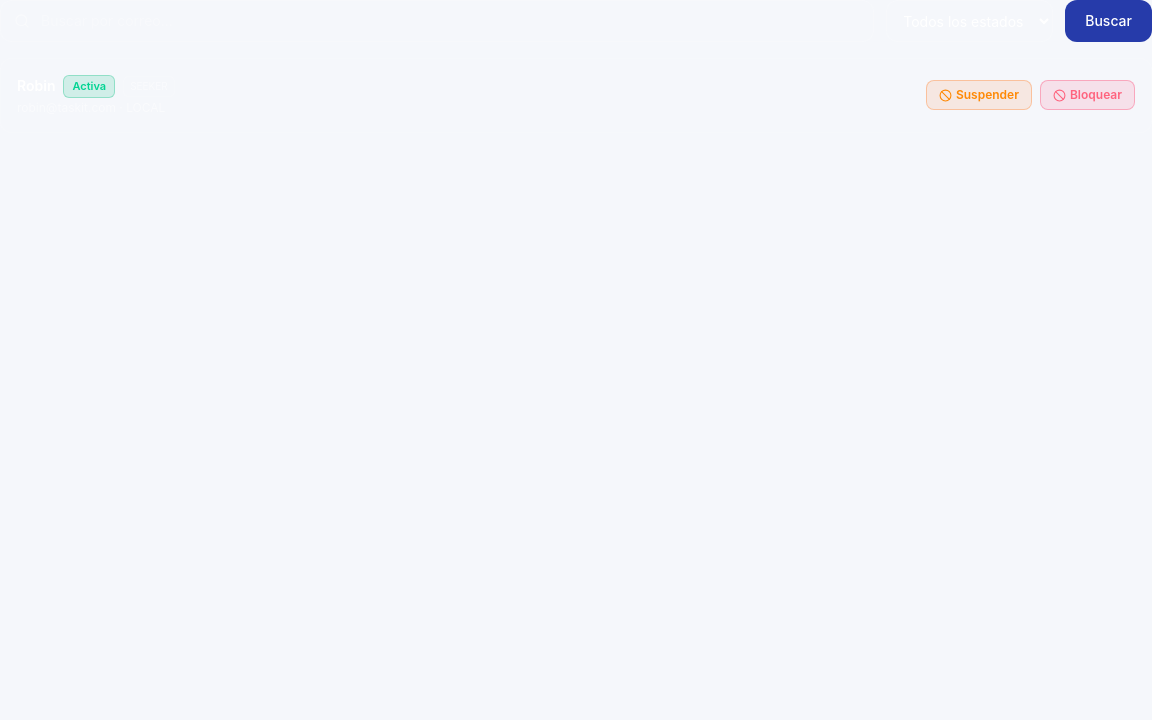
UsersTab › lista los usuarios y permite suspender a uno activo con un motivo
Click the button "Suspender": click(979, 95) [926,80,1032,110]
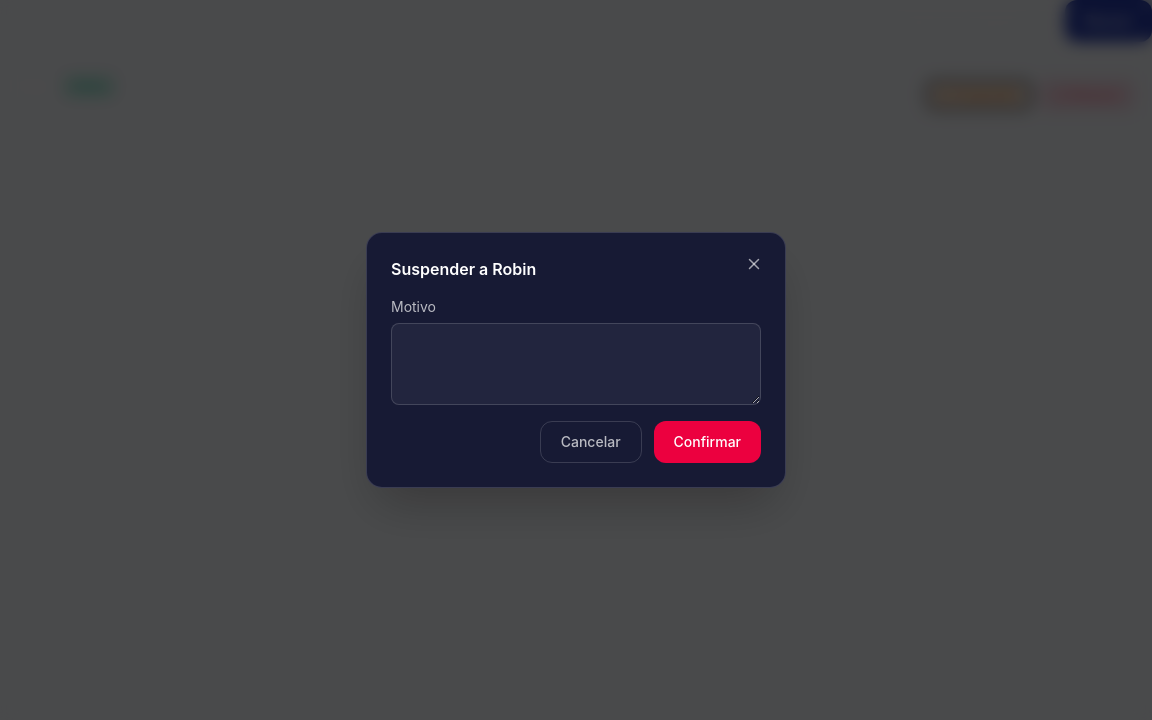
In the text box labelled "Motivo": (576, 364) [391,323,761,405], type "Reportes acumulados"
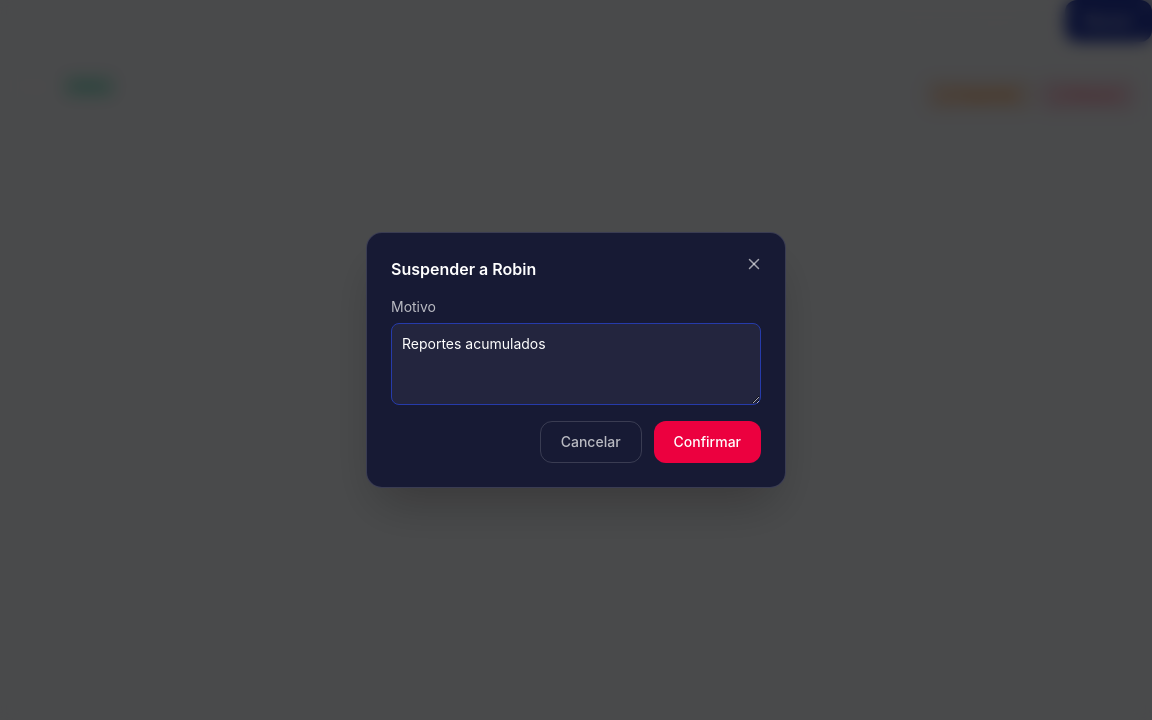
Click the button "Confirmar": click(707, 442) [654,421,761,463]
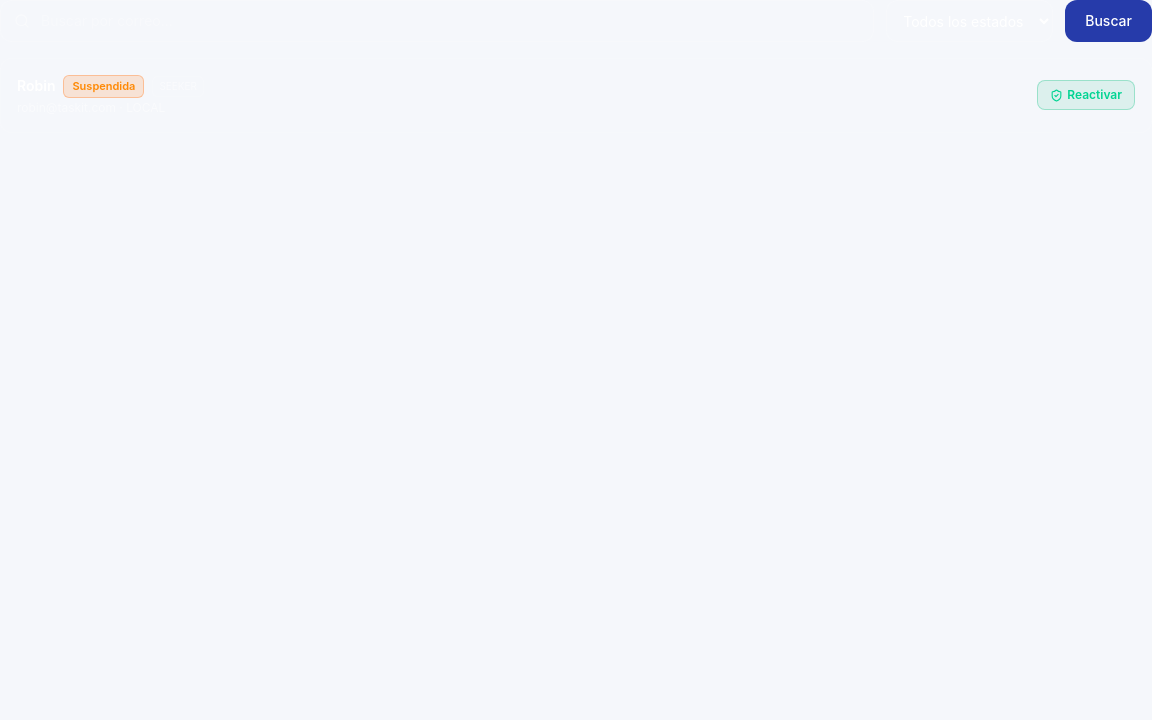
Result: the text "Suspendida" is shown at [64,75,144,98]
